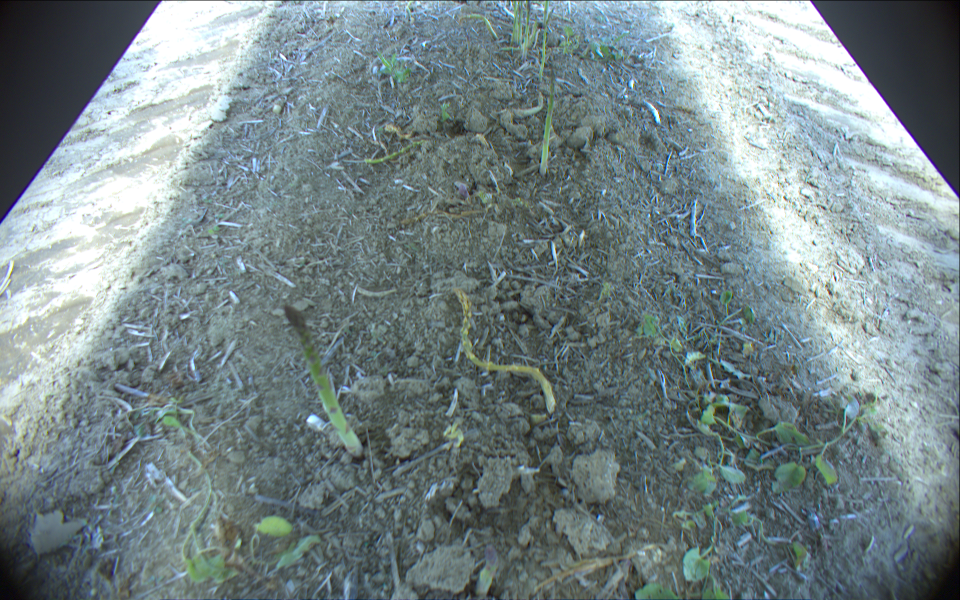aspa: (455, 288, 554, 411), (281, 305, 360, 456), (341, 140, 425, 164), (538, 57, 555, 175), (538, 1, 554, 78), (462, 12, 497, 40), (523, 1, 534, 57), (500, 42, 570, 50), (511, 1, 519, 45), (519, 1, 526, 44)
